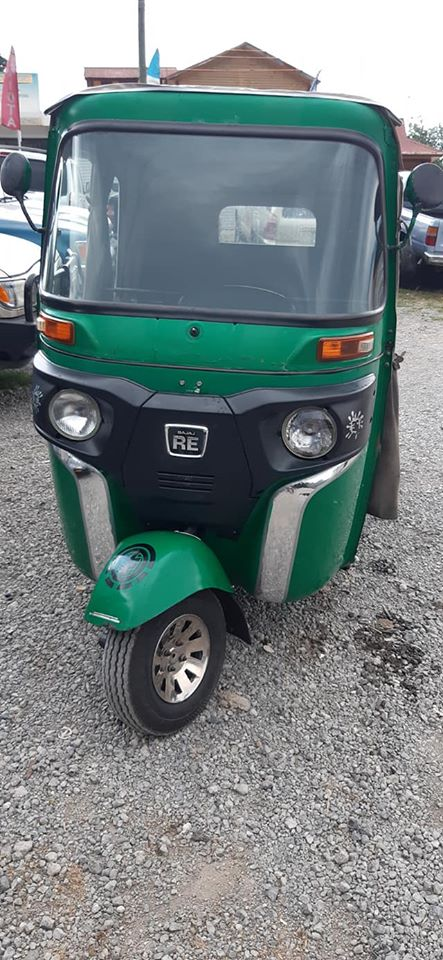mototaxi: (13, 82, 414, 734)
